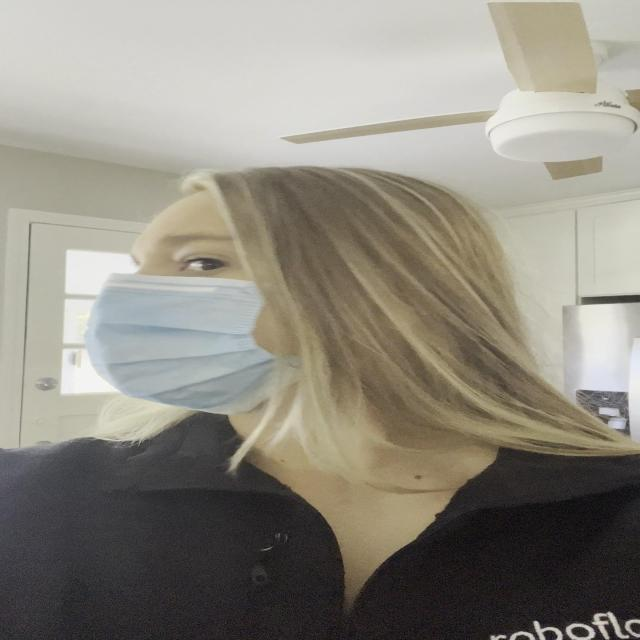no-helmet: (84, 180, 300, 419)
